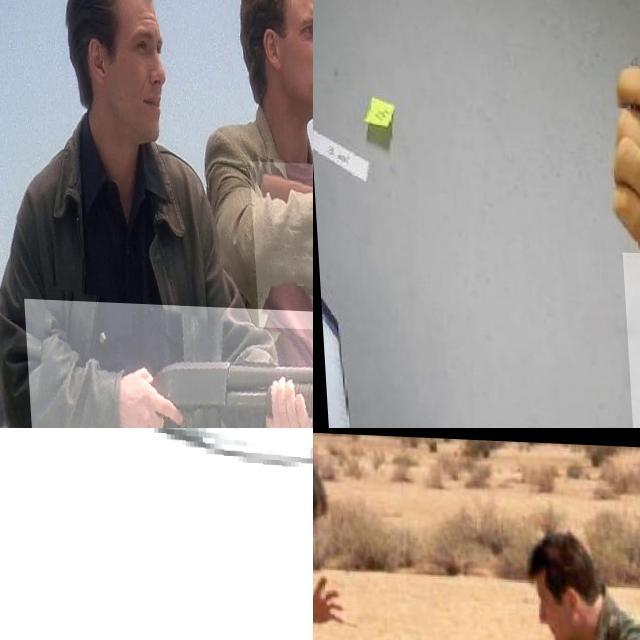-: (618, 250, 640, 428)
gun-knife-thesis - v11 Yolov5 augmented: (0, 428, 313, 640), (19, 298, 313, 428)
